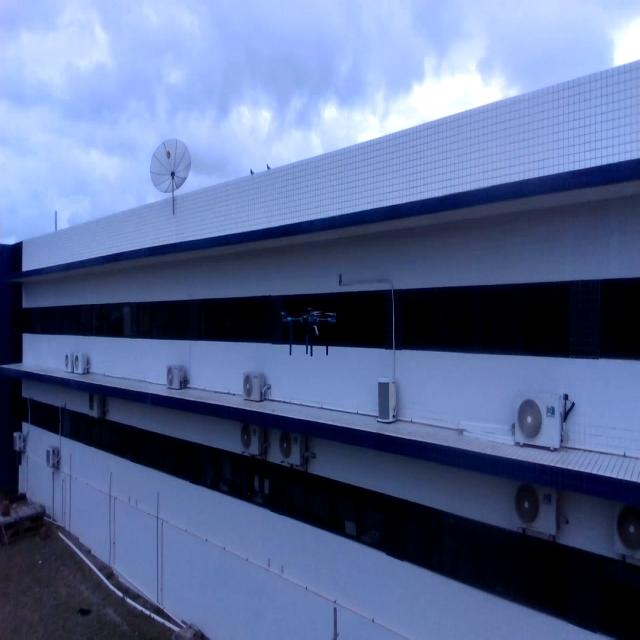-uav-: (273, 290, 345, 375)
